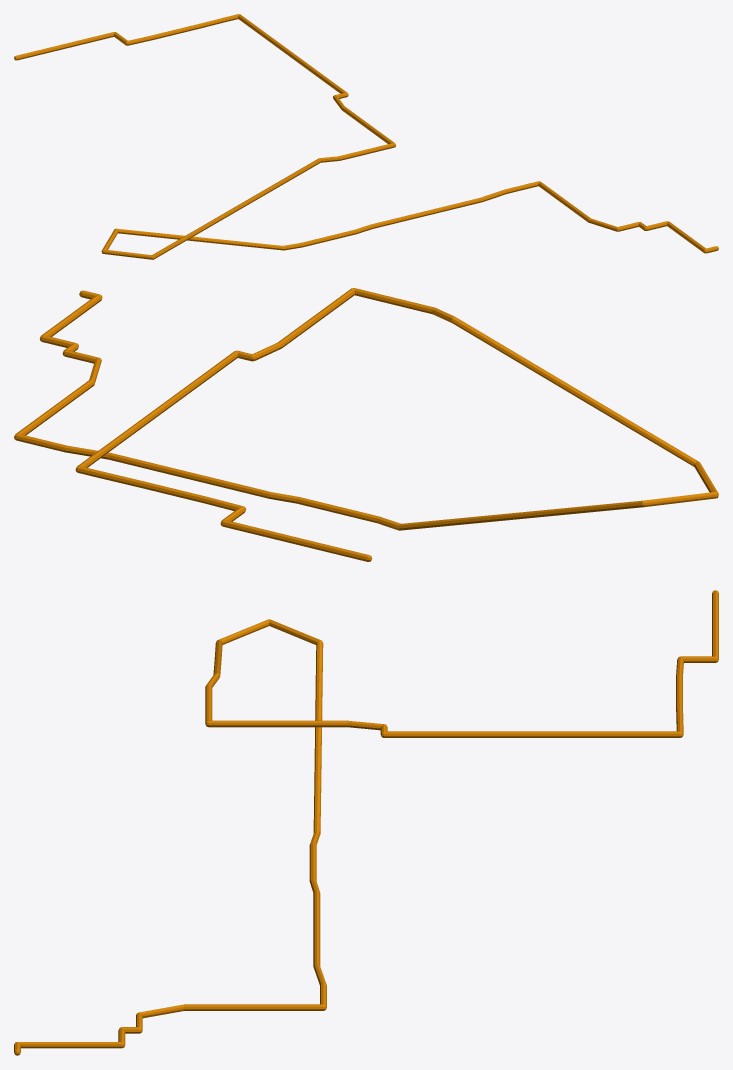
3 views of the same model, one above another, from view 1: azimuth 30°, elevation 25°; view 2: azimuth 150°, elevation 25°; view 3: azimuth 270°, elevation 25° (orthographic). The views are drawn at different scales.
Size of the model in its own units: 2406 by 520 by 2025.
